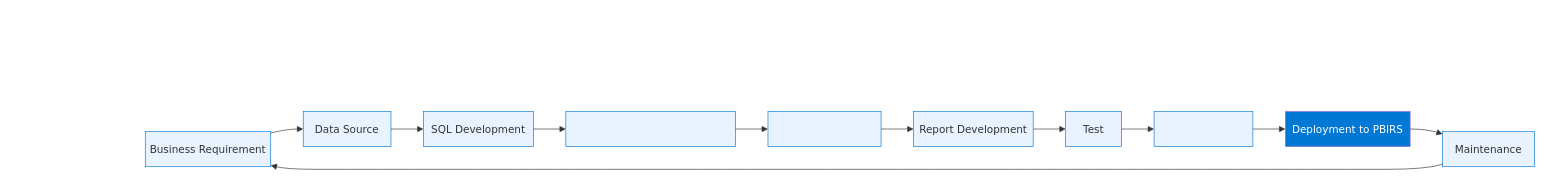
Image size: 1546x181. Some labels were removed from this diagram. Each missing label, with the box of its shape:
Dataset Validation: (767, 111, 881, 147)
Documentation: (1153, 111, 1253, 147)
PowerShell / Python Automation: (565, 111, 735, 147)
